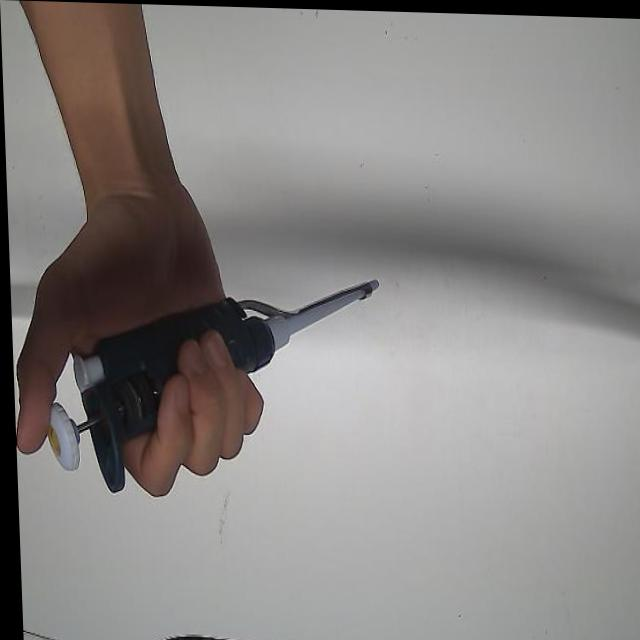Single Channel Pipettor: (36, 268, 389, 497)
